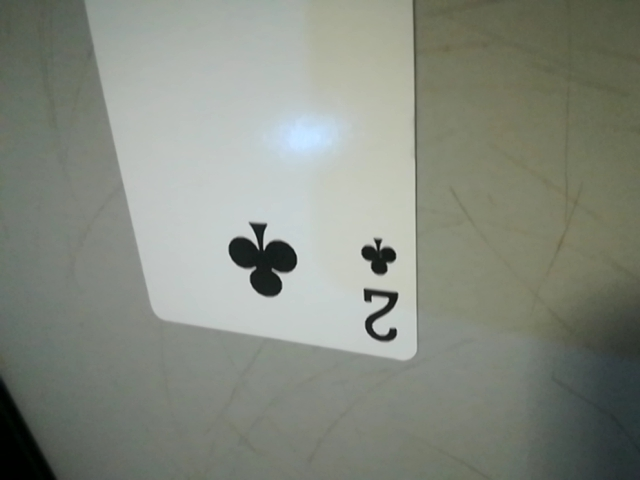mh 2: (348, 226, 417, 358)
